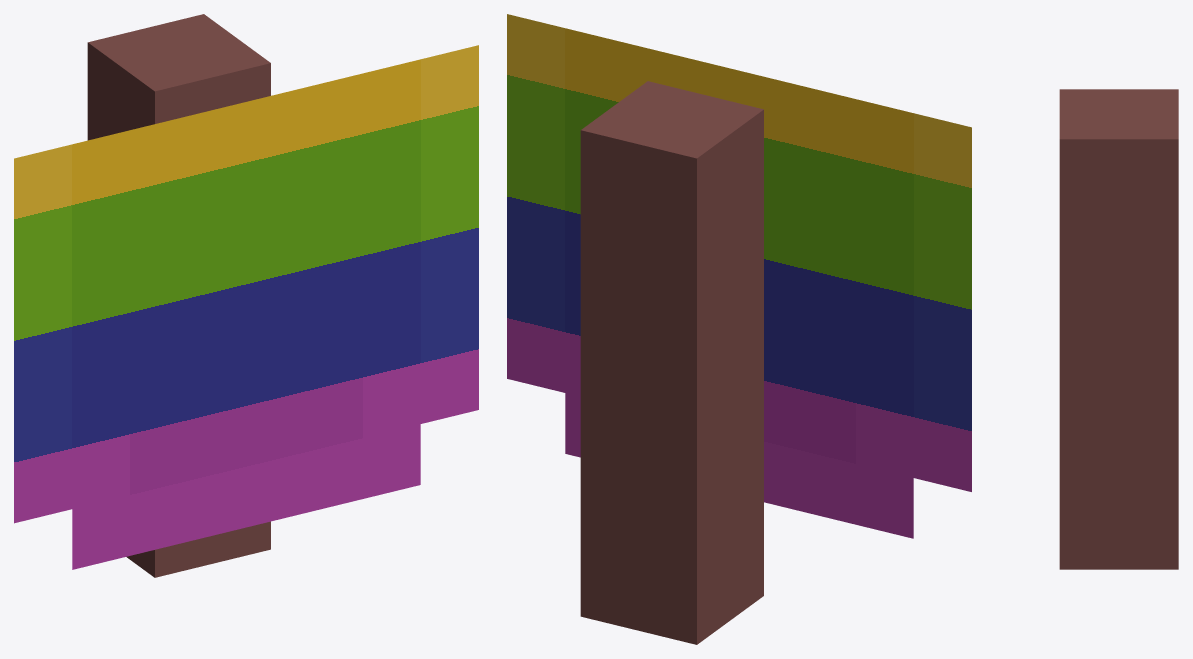
File: Rainbow Banner.glb
3 renders of one model, left to right at view 1: azimuth 30°, elevation 25°; view 2: azimuth 150°, elevation 25°; view 3: azimuth 270°, elevation 25°, orthographic. The views are drawn at different scales.
Parts seen in each view (by area): view 1: cube; view 2: cube; view 3: cube.
Part boxes in pixels (x1,y1,x2,y2): cube: (14,14,478,577); cube: (507,14,971,644); cube: (1059,89,1178,569).
Size of the model in its own units: 1 by 1 by 0.375.
Materials: 1 (1 with a texture image).
